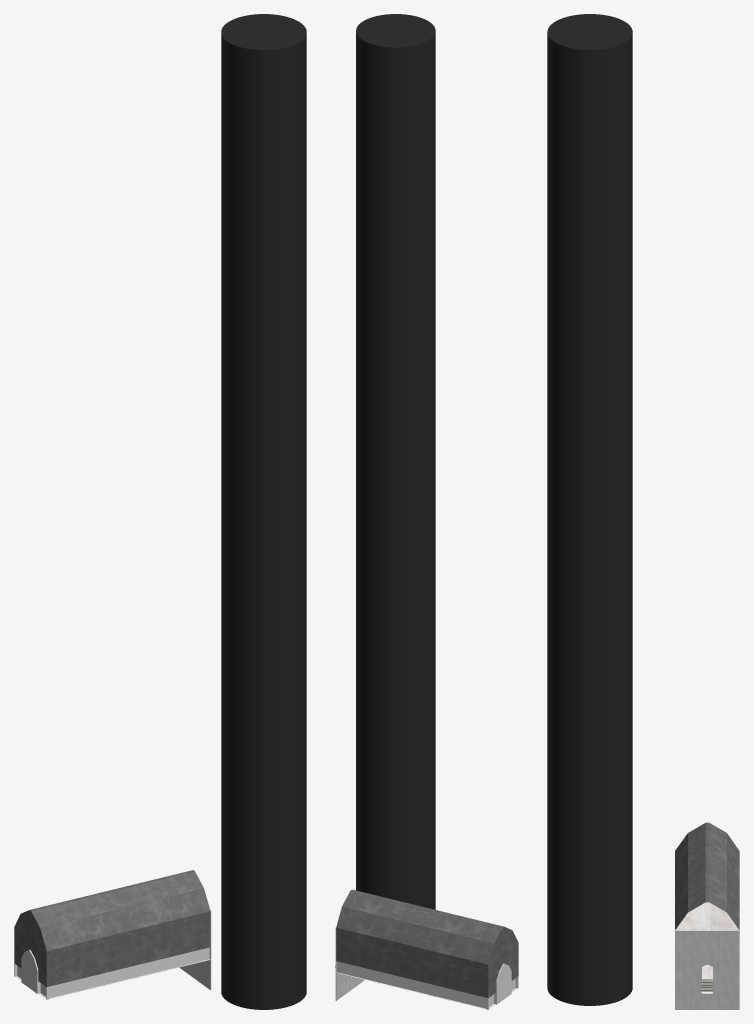
File: cutscene scene.fbx
3 renders of one model, left to right at view 1: azimuth 30°, elevation 25°; view 2: azimuth 150°, elevation 25°; view 3: azimuth 270°, elevation 25°, orthographic. The views are drawn at different scales.
Parts seen in each view (by area): view 1: Wall, hall; view 2: Wall, hall, wall, door; view 3: Wall, hall, wall.
Part boxes in pixels (x1,y1,x2,y2): Wall: (221, 14, 306, 1009); hall: (14, 870, 210, 999); Wall: (356, 14, 435, 909); hall: (336, 889, 518, 1009); wall: (335, 927, 364, 1000); door: (494, 963, 511, 1004); Wall: (547, 14, 632, 1005); hall: (675, 822, 739, 979); wall: (675, 930, 739, 1009).
Bounding box in the file's own units: 18604 × 82460 × 14610.
